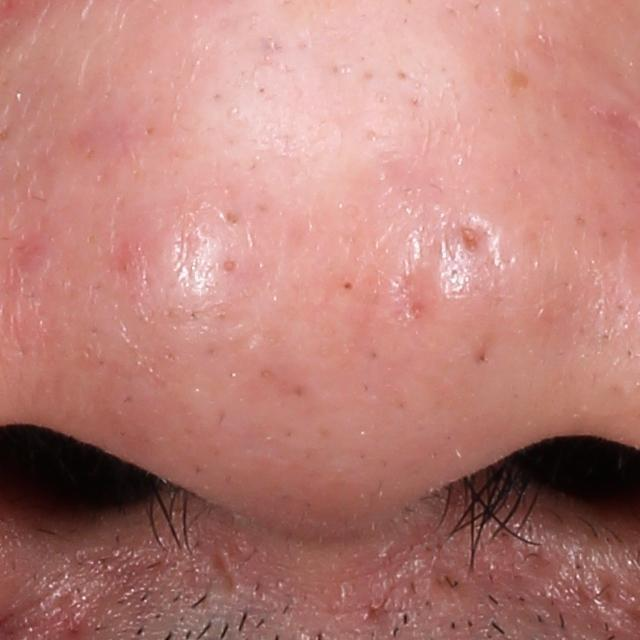atrophic_scar: (385, 263, 448, 343), (200, 538, 241, 598), (454, 216, 491, 262)
comedo: (222, 257, 239, 273)
